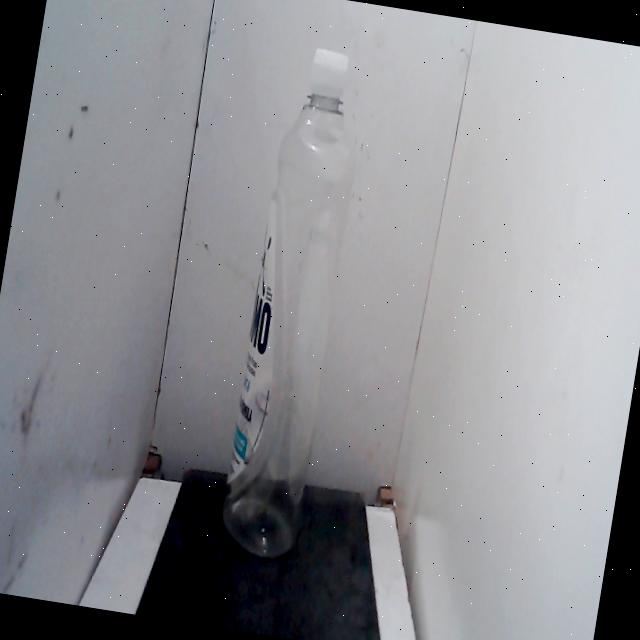plastico: (204, 35, 384, 573)
